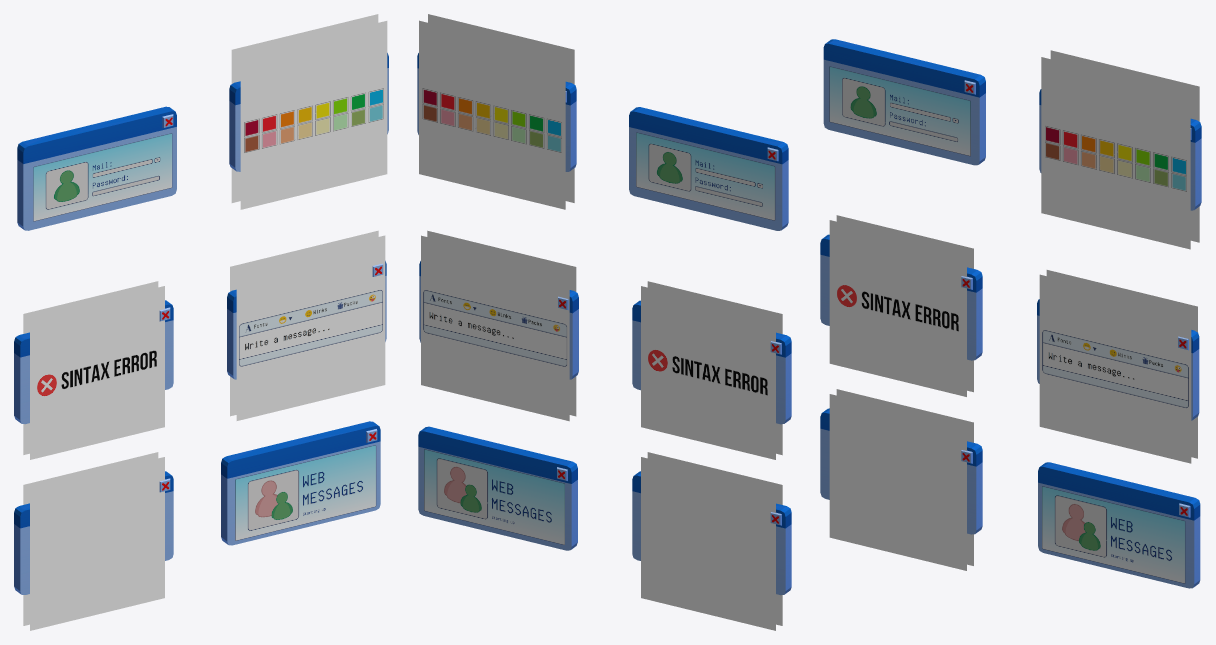
Rendered from SM_Walls.fbx.
3 views of the same model, side by side, from view 1: azimuth 30°, elevation 25°; view 2: azimuth 150°, elevation 25°; view 3: azimuth 330°, elevation 25° (orthographic).
Parts seen in each view (by area): view 1: SM_ColorsWall, SM_MessageWall, SM_SyntaxWall001, SM_BlueScreen002, SM_WebWall, SM_WebProfileWall; view 2: SM_ColorsWall, SM_MessageWall, SM_SyntaxWall001, SM_BlueScreen002, SM_WebWall, SM_WebProfileWall; view 3: SM_ColorsWall, SM_MessageWall, SM_BlueScreen002, SM_SyntaxWall001, SM_WebProfileWall, SM_WebWall.
Boxes of the visible parts, x1,y1,x2,y2 form: SM_ColorsWall: (229, 14, 388, 209); SM_MessageWall: (227, 230, 386, 420); SM_SyntaxWall001: (14, 281, 173, 459); SM_BlueScreen002: (14, 452, 173, 630); SM_WebWall: (221, 421, 380, 545); SM_WebProfileWall: (17, 106, 176, 230); SM_ColorsWall: (417, 14, 576, 209); SM_MessageWall: (419, 230, 578, 421); SM_SyntaxWall001: (632, 281, 791, 459); SM_BlueScreen002: (632, 452, 791, 630); SM_WebWall: (418, 426, 577, 550); SM_WebProfileWall: (629, 107, 788, 230); SM_ColorsWall: (1039, 50, 1201, 249); SM_MessageWall: (1037, 270, 1199, 463); SM_BlueScreen002: (820, 389, 982, 570); SM_SyntaxWall001: (820, 215, 982, 396); SM_WebProfileWall: (823, 39, 985, 165); SM_WebWall: (1038, 462, 1200, 588).
Size of the model in its own units: 201 by 277 by 11.94.
Materials: 8 (8 with a texture image).
